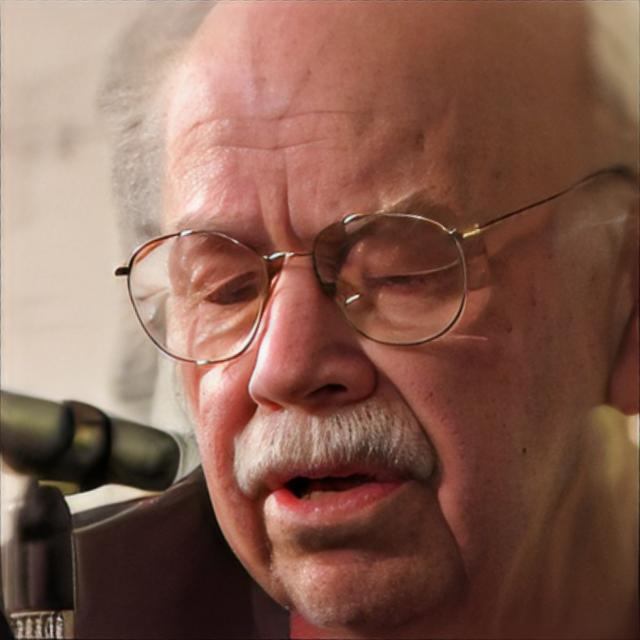anger: (162, 89, 588, 628)
